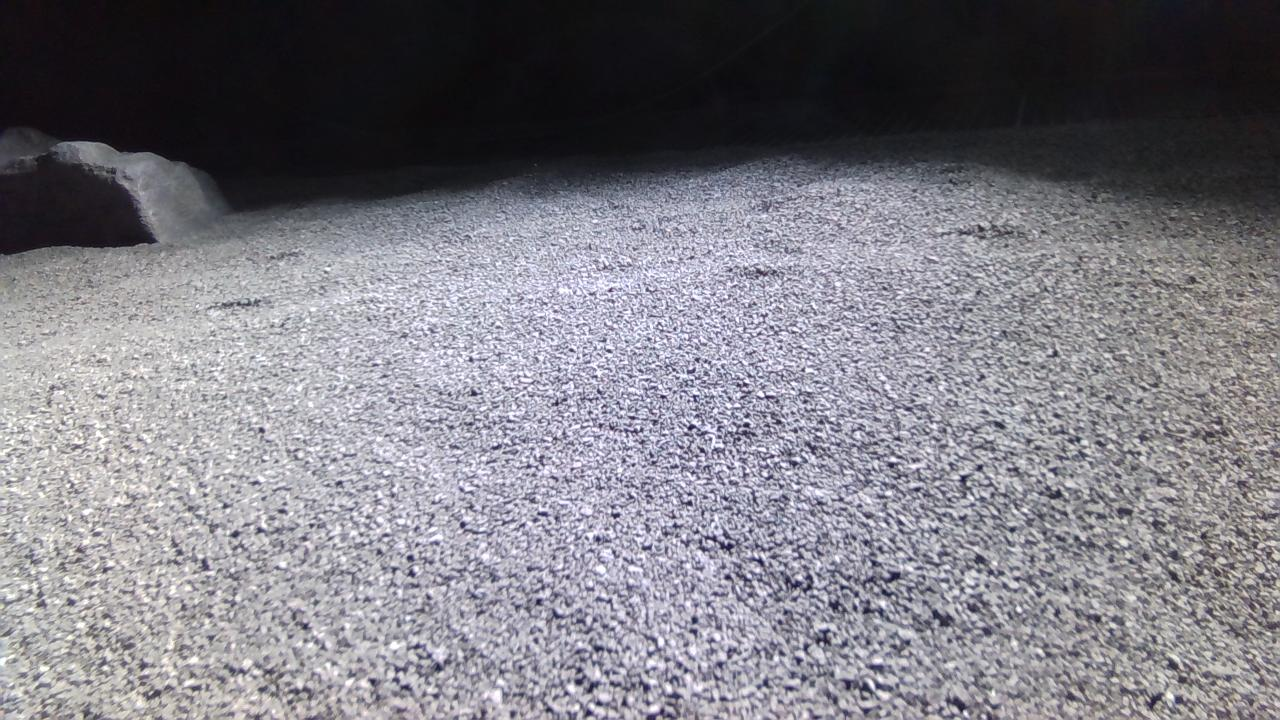rock: (0, 125, 228, 252)
